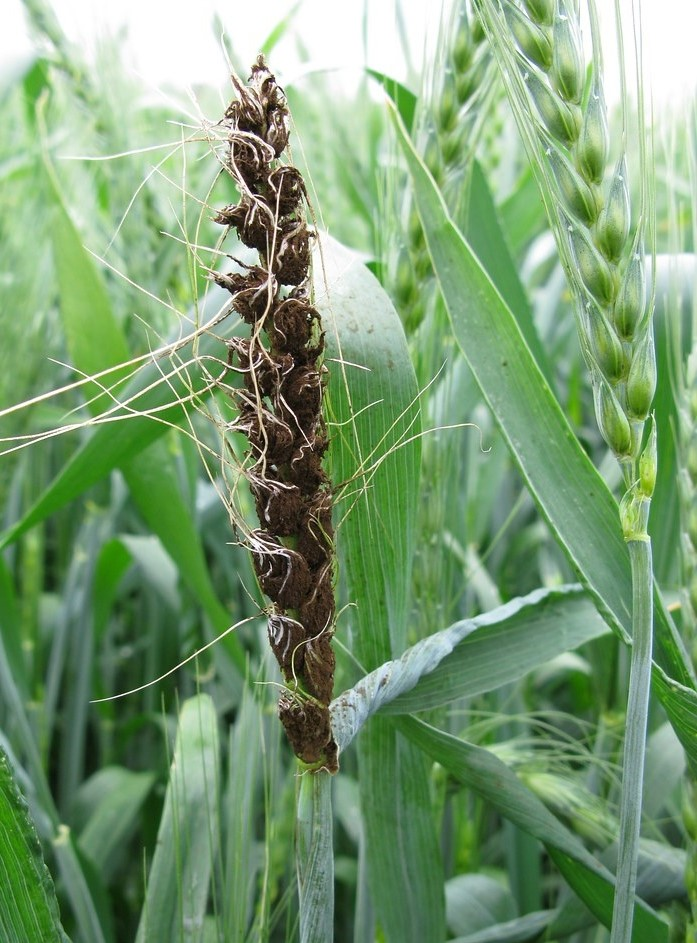Wheat Loose Smut: (186, 73, 365, 727)
